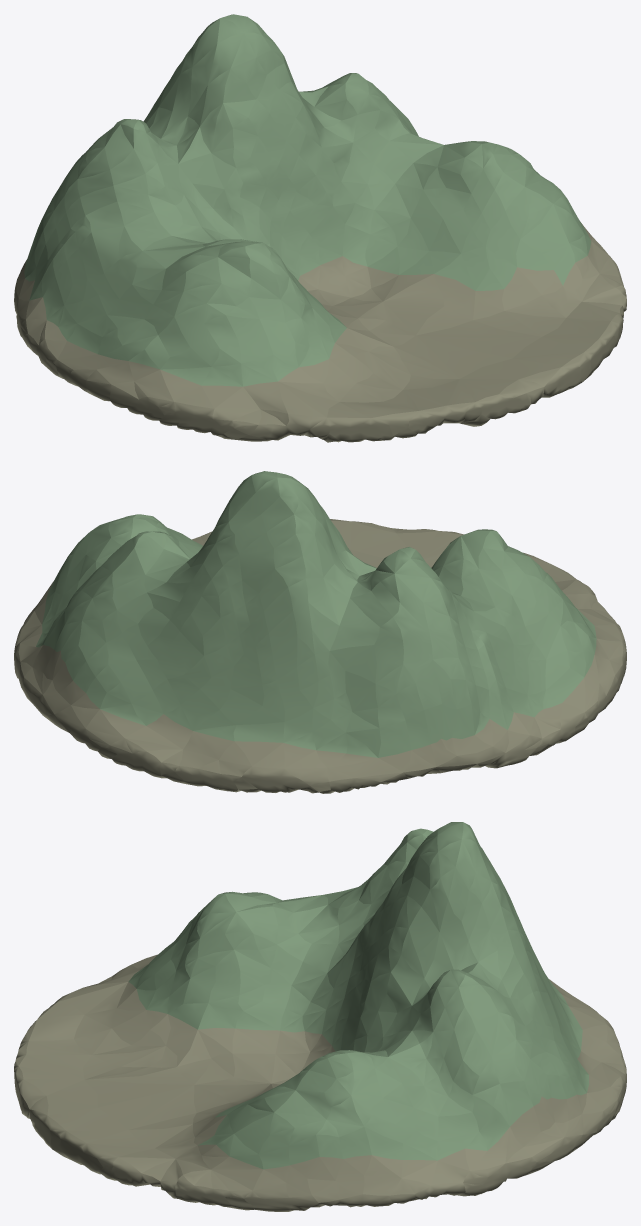
The model's file is island.fbx.
3 renders of one model, top to bottom at view 1: azimuth 30°, elevation 25°; view 2: azimuth 150°, elevation 25°; view 3: azimuth 270°, elevation 25°, orthographic.
Parts seen in each view (by area): view 1: pDisc1; view 2: pDisc1; view 3: pDisc1.
Boxes of the visible parts, <box> form: pDisc1: <box>14,14,626,442</box>; pDisc1: <box>14,471,626,793</box>; pDisc1: <box>14,822,626,1211</box>.
Bounding box in the file's own units: 34.42 × 15.87 × 34.39.
